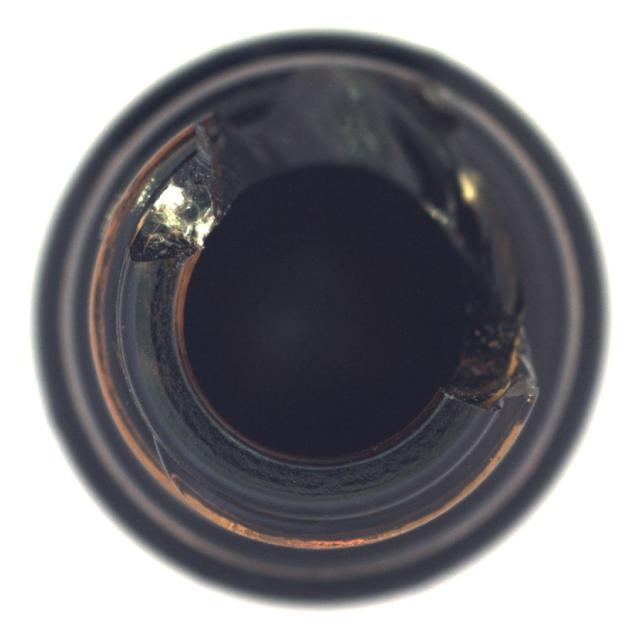bad-broken_large: (29, 30, 611, 613)
